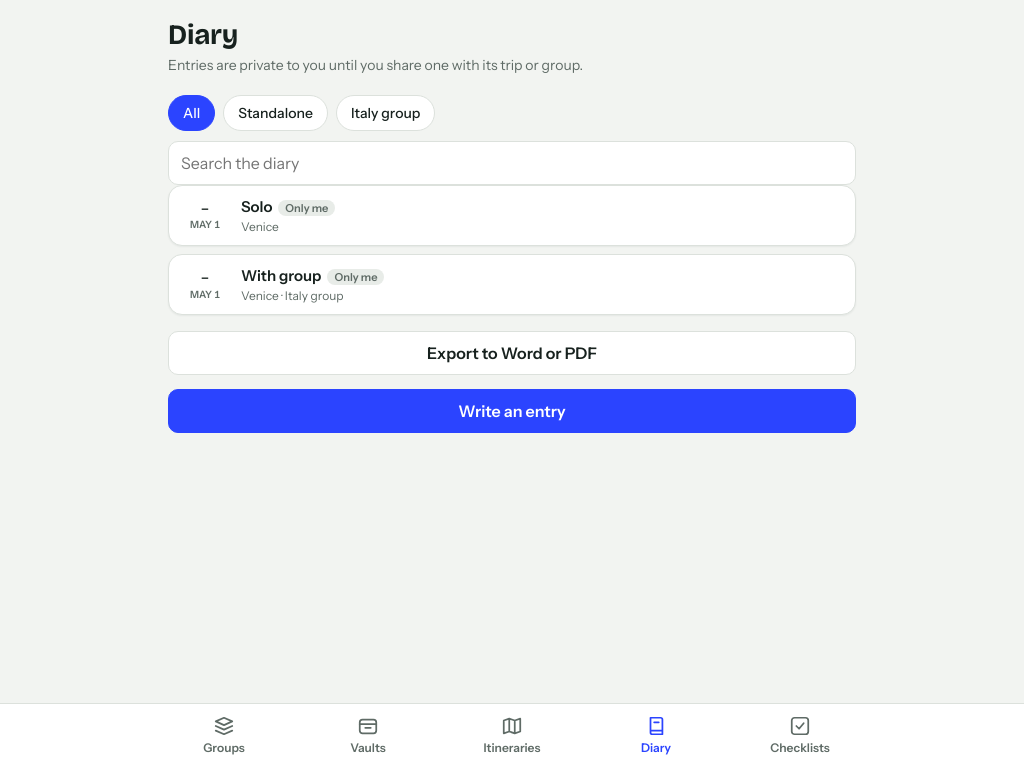
diary › filters the list by standalone or by group
Check: the text "Solo" is shown, box top-left (241, 197), bottom-right (272, 216)
Step 1. Click the button "Italy group" → (386, 113), box top-left (336, 95), bottom-right (435, 131)
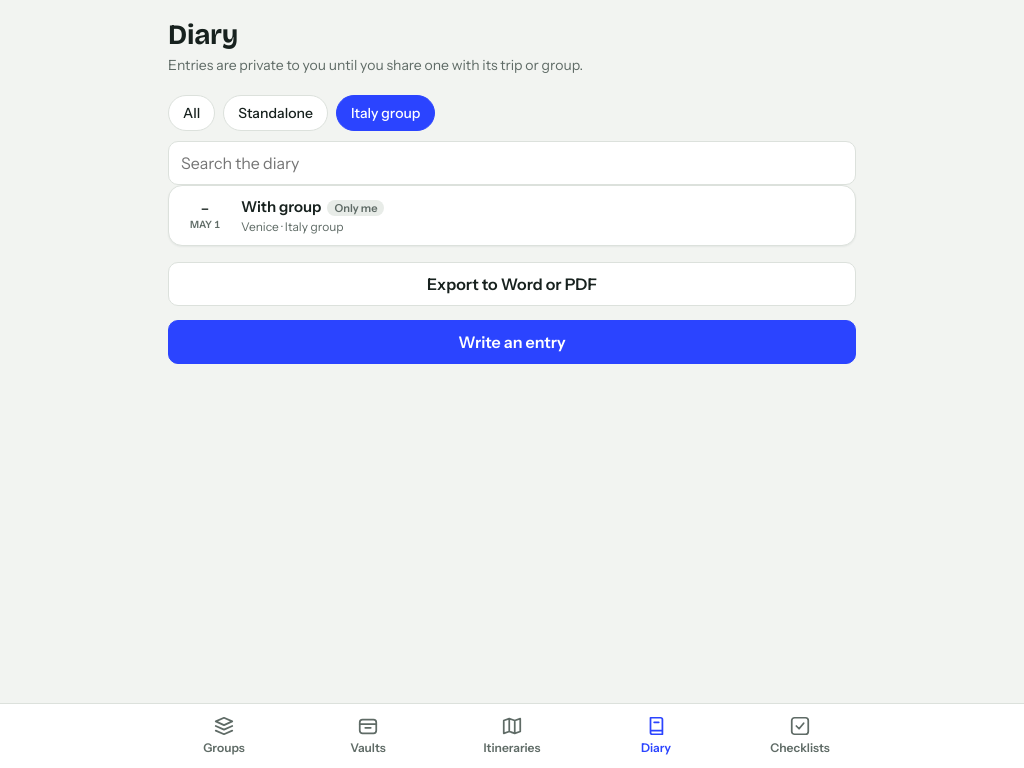
Check: the text "With group" is shown, box top-left (241, 197), bottom-right (321, 216)
Check: the link "Solo" is gone
Step 2. Click the button "Standalone" → (276, 113), box top-left (223, 95), bottom-right (328, 131)
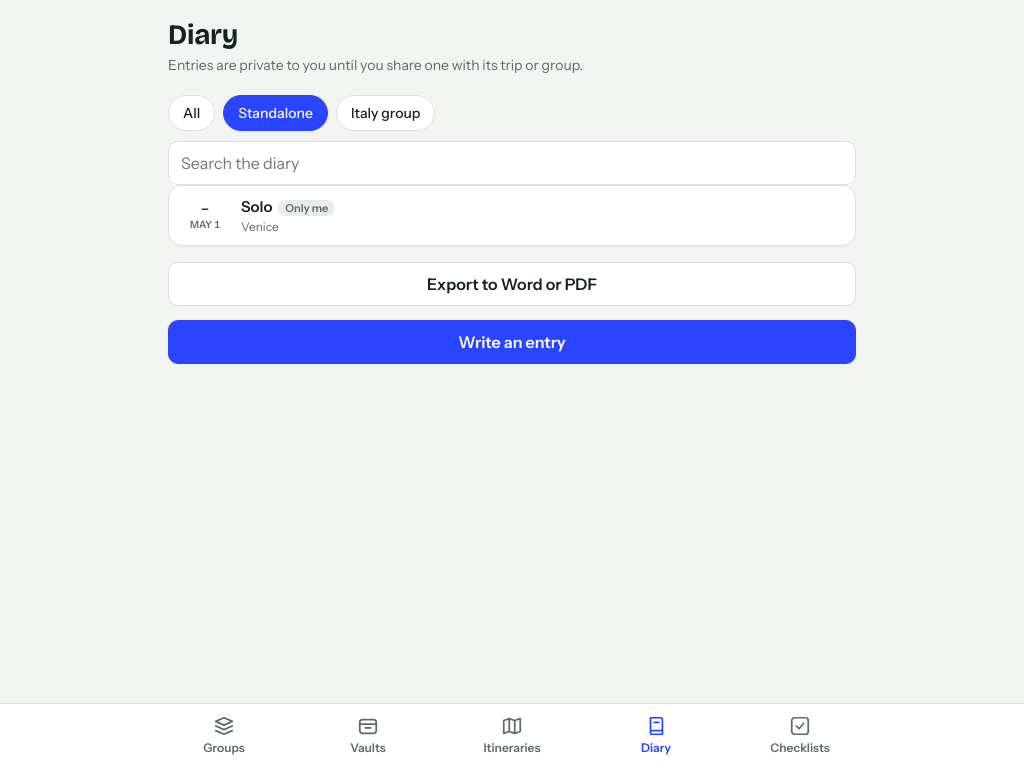
Check: the text "Solo" is shown, box top-left (241, 197), bottom-right (272, 216)
Check: the link "With group" is gone
